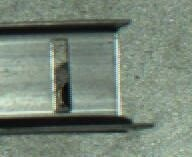40ngpress: (17, 20, 144, 130)
